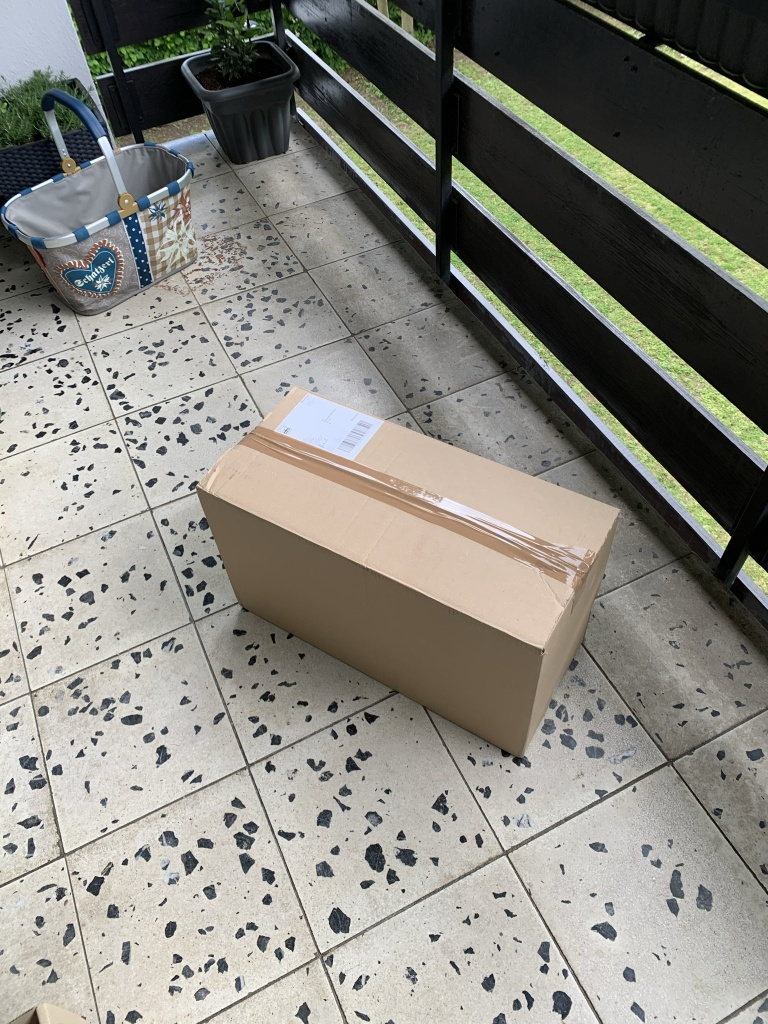good-parcel: (185, 383, 626, 759)
